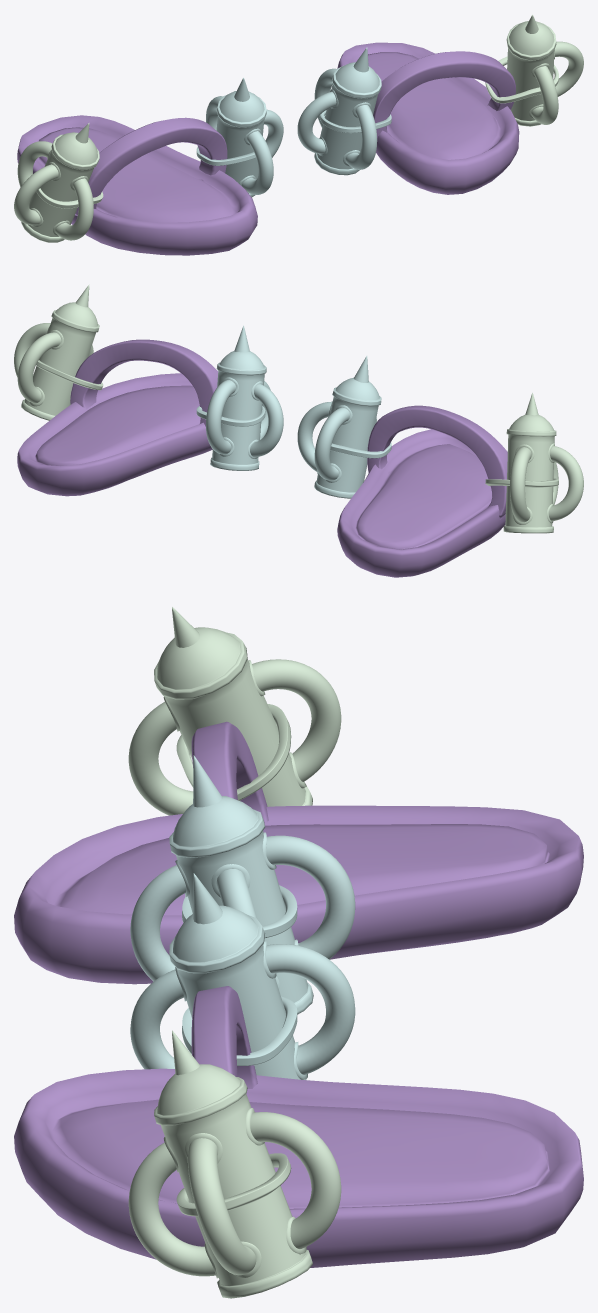
The model's file is rocketsandals.fbx.
3 views of the same model, one above another, from view 1: azimuth 30°, elevation 25°; view 2: azimuth 150°, elevation 25°; view 3: azimuth 270°, elevation 25° (orthographic). The views are drawn at different scales.
Visible parts, largest first — view 1: sandals_low, rockets1_low, rockets2_low; view 2: sandals_low, rockets2_low, rockets1_low; view 3: sandals_low, rockets1_low, rockets2_low.
Part boxes in pixels (left/top/right/bottom): sandals_low: left=17, top=42, right=519, bottom=255; rockets1_low: left=14, top=14, right=583, bottom=242; rockets2_low: left=196, top=47, right=391, bottom=197; sandals_low: left=17, top=339, right=507, bottom=577; rockets2_low: left=196, top=325, right=391, bottom=498; rockets1_low: left=14, top=284, right=583, bottom=533; sandals_low: left=14, top=721, right=583, bottom=1267; rockets1_low: left=128, top=607, right=341, bottom=1298; rockets2_low: left=130, top=755, right=355, bottom=1080.
Bounding box in the file's own units: 1.41 × 0.3272 × 0.6274.
